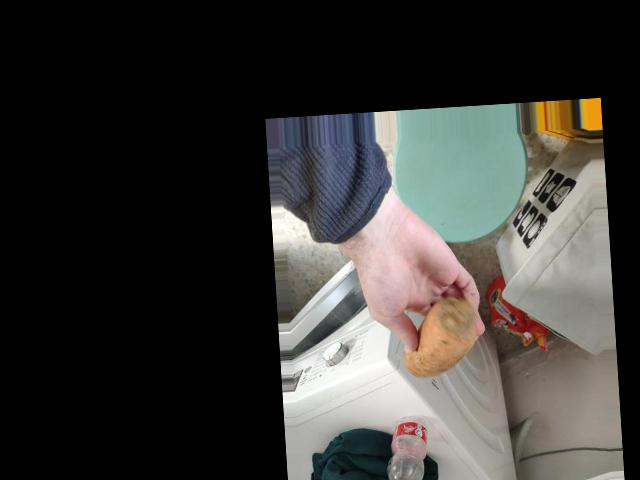sweet_potato: (392, 287, 473, 379)
